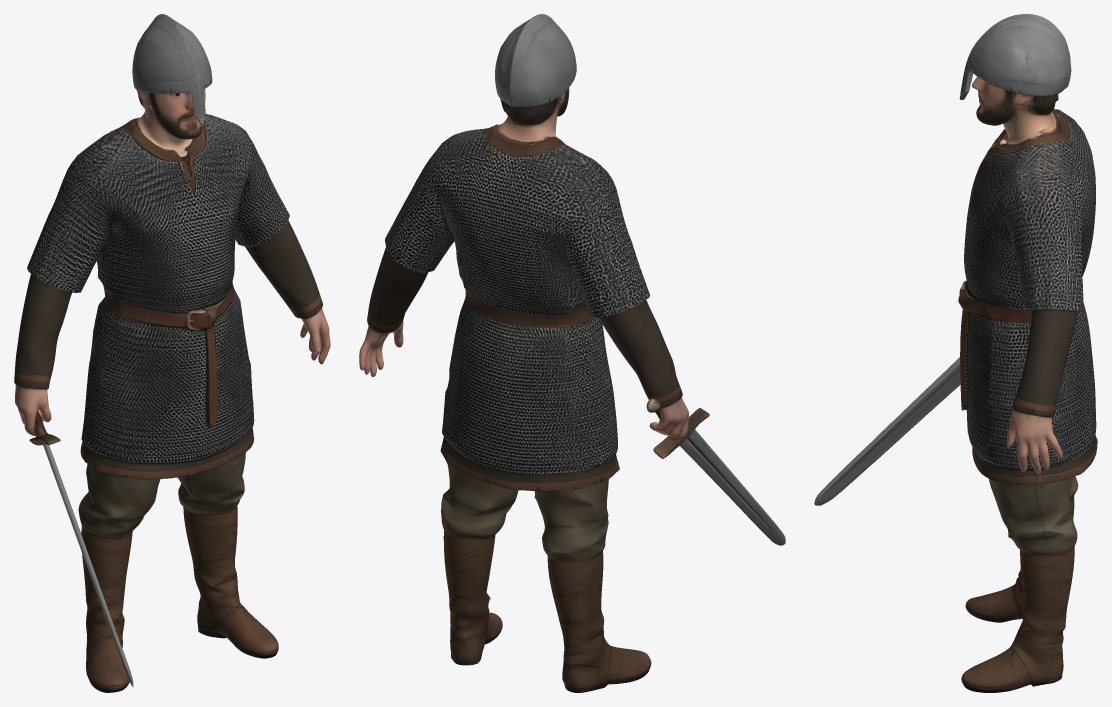
Rendered from Sword-warrior.glb.
The picture shows the model from 3 angles, left to right: view 1: azimuth 30°, elevation 25°; view 2: azimuth 150°, elevation 25°; view 3: azimuth 270°, elevation 25°; orthographic projection. The views are drawn at different scales.
Parts seen in each view (by area): view 1: Mesh_0.003; view 2: Mesh_0.003; view 3: Mesh_0.003.
Boxes of the visible parts, bbox=[...] form: Mesh_0.003: bbox=[14, 14, 330, 692]; Mesh_0.003: bbox=[359, 14, 785, 692]; Mesh_0.003: bbox=[814, 14, 1097, 692].
Size of the model in its own units: 0.9152 by 1.8 by 0.7235.
1 material, 1 textured.
